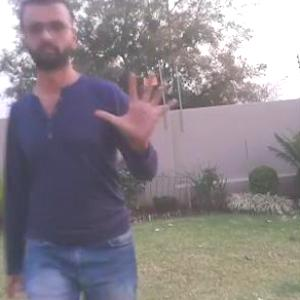follow_hand: (95, 66, 182, 150)
